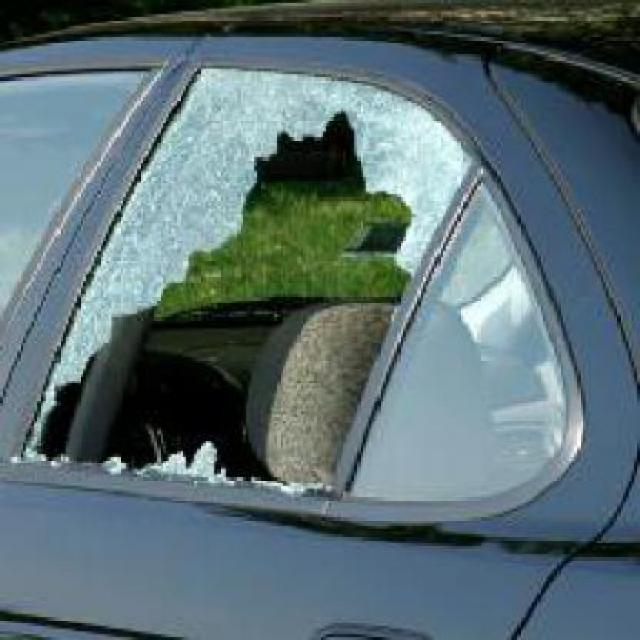damaged-window: (18, 53, 450, 510)
